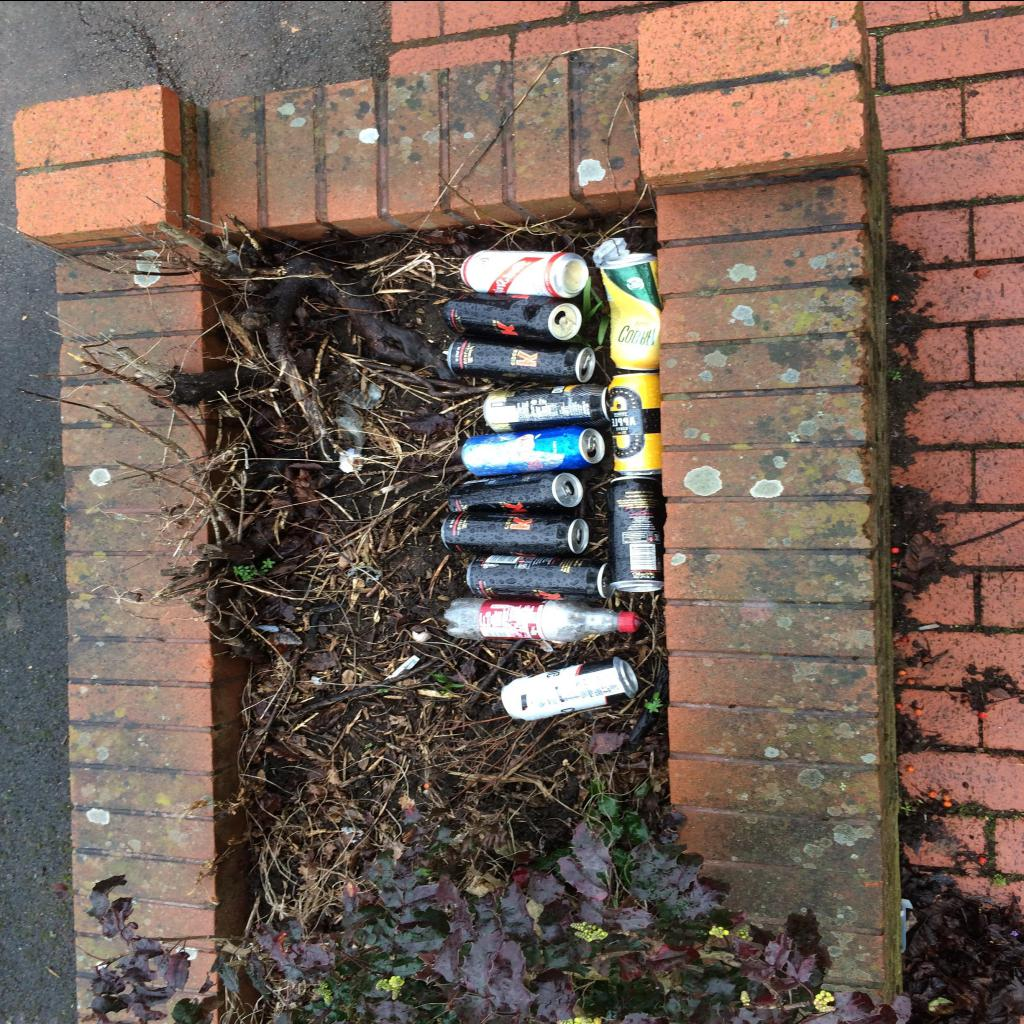Clear plastic bottle: (443, 597, 641, 641)
Drink can: (501, 656, 639, 720), (447, 334, 595, 384), (466, 553, 616, 601), (606, 474, 668, 590), (600, 252, 662, 368), (462, 425, 604, 475), (442, 293, 582, 341), (440, 512, 590, 556), (484, 382, 610, 432), (462, 250, 588, 298), (448, 470, 582, 514), (607, 372, 663, 474)
Plastic bottle cap: (624, 611, 640, 631)
Pop tab: (558, 316, 578, 332), (582, 355, 592, 367), (588, 434, 596, 448), (562, 484, 572, 494), (576, 529, 582, 540)
Unlabeled litter: (594, 238, 630, 266), (342, 384, 380, 408), (338, 405, 360, 443), (382, 655, 418, 678), (338, 446, 354, 472), (916, 624, 940, 630)
